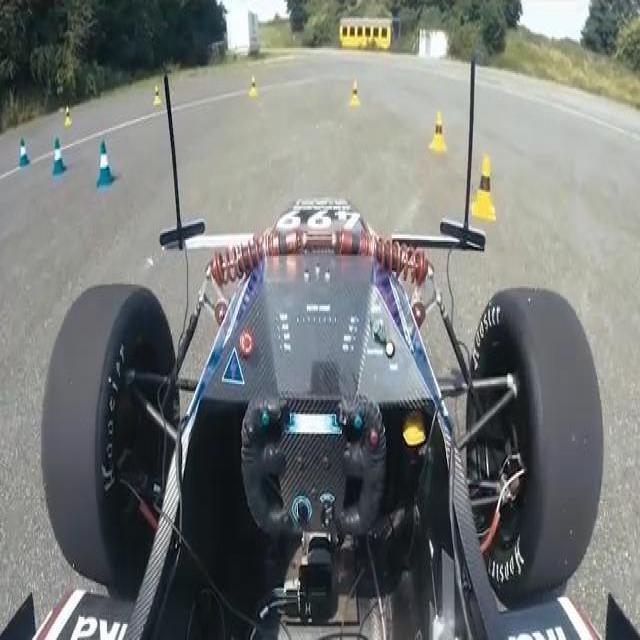blue_cone: (96, 141, 115, 189), (53, 137, 68, 176), (19, 137, 32, 167)
yellow_cone: (471, 156, 496, 223), (428, 112, 448, 152), (350, 80, 361, 106), (249, 76, 258, 99), (153, 85, 162, 107), (64, 105, 72, 126)
